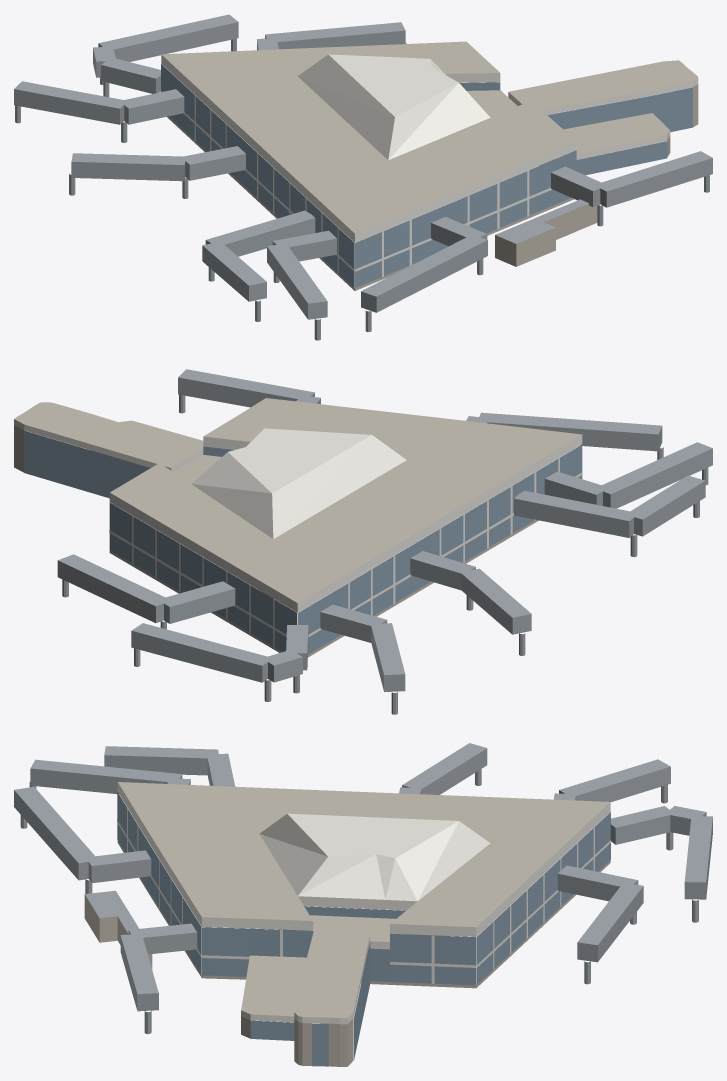
File: paris-cdg-terminal-1-satellite-y.detail.glb
The picture shows the model from 3 angles, top to bottom: view 1: azimuth 30°, elevation 25°; view 2: azimuth 150°, elevation 25°; view 3: azimuth 270°, elevation 25°; orthographic projection. The views are drawn at different scales.
Parts seen in each view (by area): view 1: Paris-CDG Terminal 1 Satellite Y; view 2: Paris-CDG Terminal 1 Satellite Y; view 3: Paris-CDG Terminal 1 Satellite Y.
Boxes of the visible parts, x1=… form: Paris-CDG Terminal 1 Satellite Y: x1=14, y1=14, x2=712, y2=340; Paris-CDG Terminal 1 Satellite Y: x1=14, y1=369, x2=712, y2=714; Paris-CDG Terminal 1 Satellite Y: x1=14, y1=743, x2=712, y2=1066.
Size of the model in its own units: 100 by 15 by 104.
